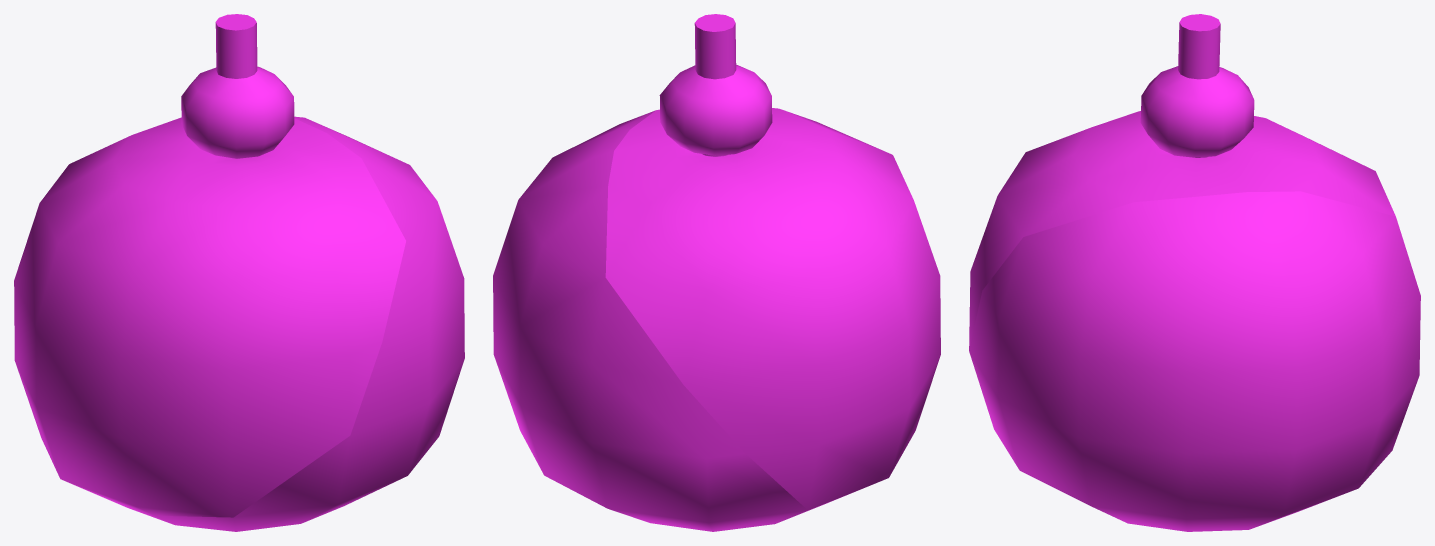
The model's file is fruits001.fbx.
3 views of the same model, side by side, from view 1: azimuth 30°, elevation 25°; view 2: azimuth 150°, elevation 25°; view 3: azimuth 270°, elevation 25° (orthographic).
Visible parts, largest first — view 1: fruit003, Object001; view 2: fruit003, Object001; view 3: Object001, fruit003.
Boxes of the visible parts, x1,y1,x2,y2 form: fruit003: (14, 14, 405, 517); Object001: (94, 116, 464, 531); fruit003: (605, 14, 940, 509); Object001: (493, 110, 850, 531); Object001: (969, 191, 1420, 531); fruit003: (969, 14, 1395, 350).
Size of the model in its own units: 3.99 by 4.63 by 4.01.
